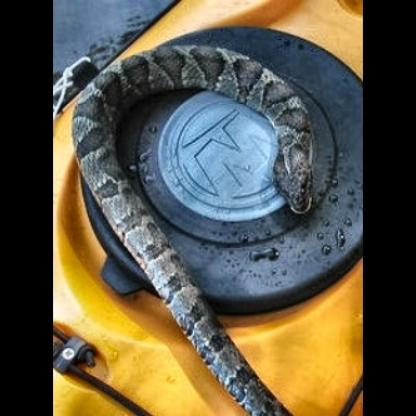Snake: (71, 43, 321, 406)
